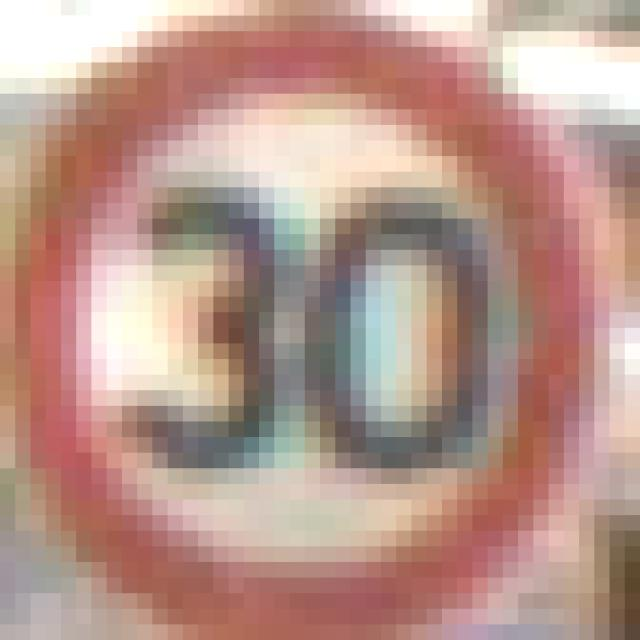speed_30: (0, 0, 625, 614)
